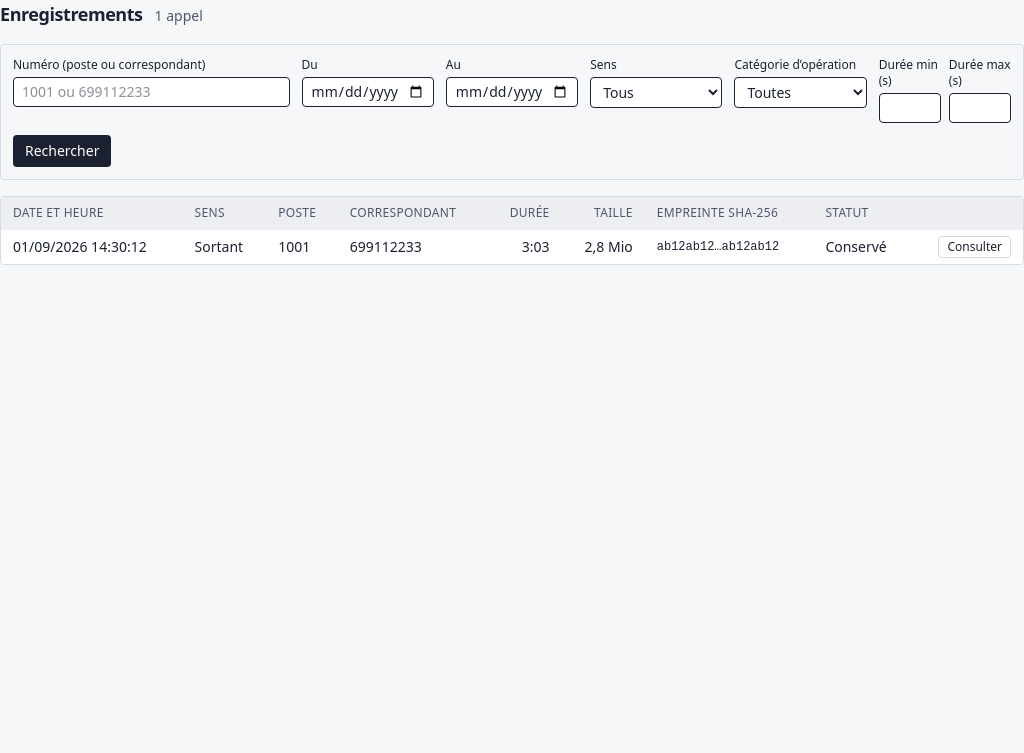
Test case: conservation forcée au portail › ne signale aucune mesure sur un appel ordinaire
Step 1. Click the button with aria-label "Consulter l’appel" → (975, 247), box [938,236,1011,258]
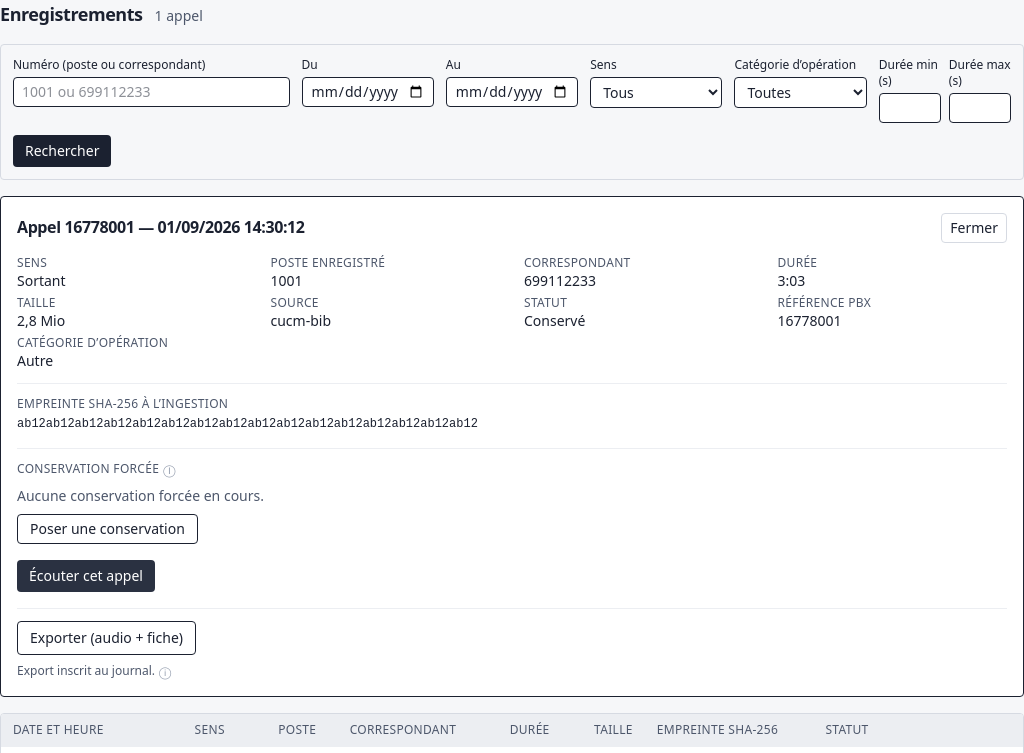
Check: the text "Aucune conservation forcée en cours." is shown, box [17,486,264,505]
